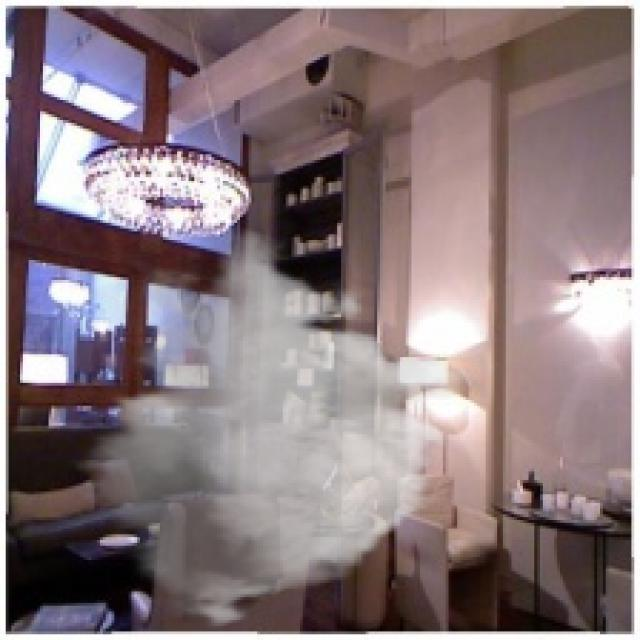Smoke: (69, 228, 478, 632)
